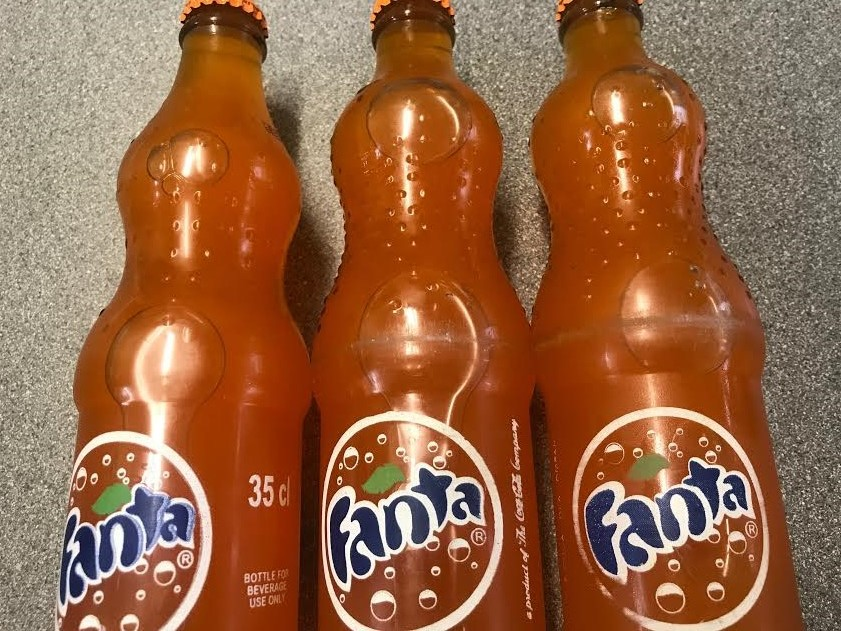Fanta: (70, 26, 296, 631), (307, 26, 533, 631), (537, 18, 763, 622)
